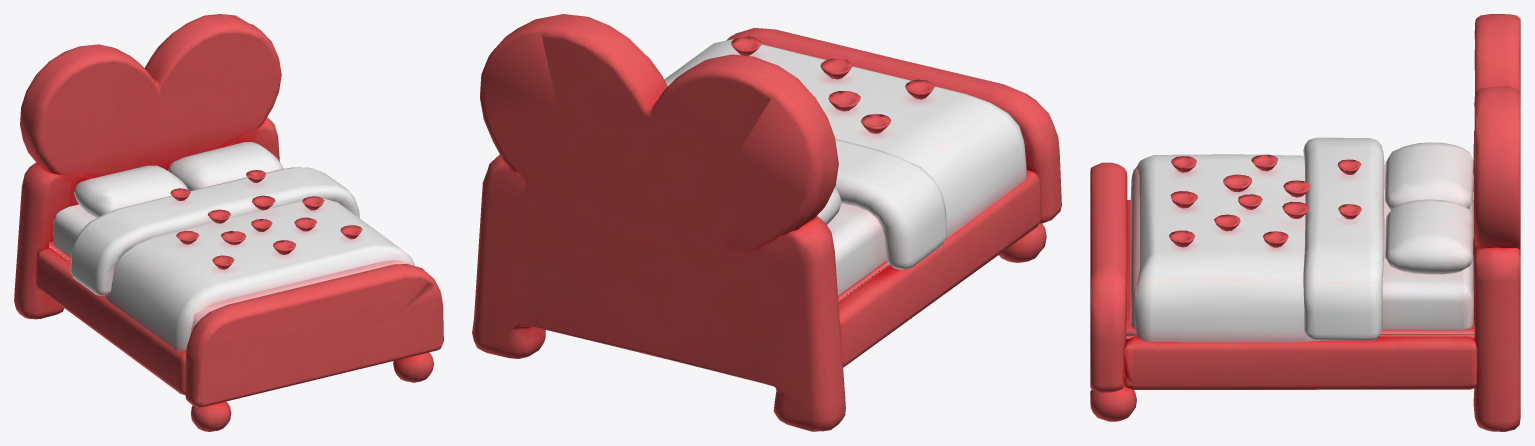
File: heart-bed.glb
The picture shows the model from 3 angles, left to right: view 1: azimuth 30°, elevation 25°; view 2: azimuth 150°, elevation 25°; view 3: azimuth 270°, elevation 25°; orthographic projection. The views are drawn at different scales.
Visible parts, largest first — view 1: geometry_0; view 2: geometry_0; view 3: geometry_0.
Part boxes in pixels (left/top/right/bottom): geometry_0: left=14, top=14, right=443, bottom=431; geometry_0: left=472, top=14, right=1061, bottom=431; geometry_0: left=1090, top=14, right=1520, bottom=431.
Bounding box in the file's own units: 0.8489 × 0.7732 × 1.
1 material, 1 textured.
